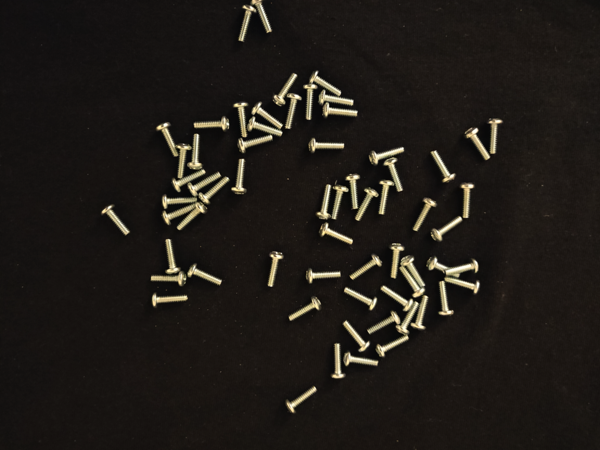shortscrew: (282, 295, 324, 326), (339, 318, 371, 355), (346, 251, 384, 282), (166, 166, 213, 191), (483, 113, 508, 160), (367, 142, 412, 168), (406, 195, 436, 234), (465, 125, 494, 165), (102, 204, 135, 239), (253, 102, 289, 134), (423, 216, 465, 243), (281, 385, 321, 413), (315, 219, 358, 245), (428, 142, 454, 185), (269, 70, 300, 106), (185, 261, 227, 286), (308, 68, 344, 97), (361, 313, 401, 339), (161, 198, 202, 223), (376, 282, 413, 309), (302, 264, 349, 285), (349, 188, 376, 224), (440, 255, 486, 276), (376, 330, 414, 355), (386, 240, 408, 283), (311, 181, 334, 222), (174, 203, 206, 232), (235, 1, 256, 45), (157, 121, 179, 163), (159, 234, 181, 275), (342, 171, 362, 216), (342, 351, 387, 371), (383, 159, 410, 192), (426, 255, 468, 276), (189, 171, 227, 194), (341, 288, 379, 311), (435, 280, 454, 326), (396, 264, 422, 297), (400, 255, 423, 292), (312, 89, 359, 107), (236, 135, 278, 155), (245, 116, 287, 136), (265, 247, 284, 290), (328, 339, 347, 382), (231, 155, 249, 200), (172, 142, 192, 182), (302, 82, 320, 126), (202, 177, 232, 203), (322, 100, 359, 121), (145, 270, 189, 287), (460, 176, 476, 222), (158, 194, 201, 211), (254, 1, 274, 37), (410, 291, 427, 333), (400, 298, 420, 333), (306, 136, 347, 153), (233, 97, 248, 143), (334, 183, 349, 223), (190, 118, 232, 132), (445, 279, 484, 294), (148, 293, 195, 305), (285, 92, 298, 134)
